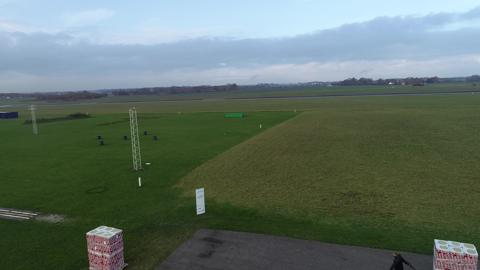RockwoolPallet: (84, 226, 127, 269)
